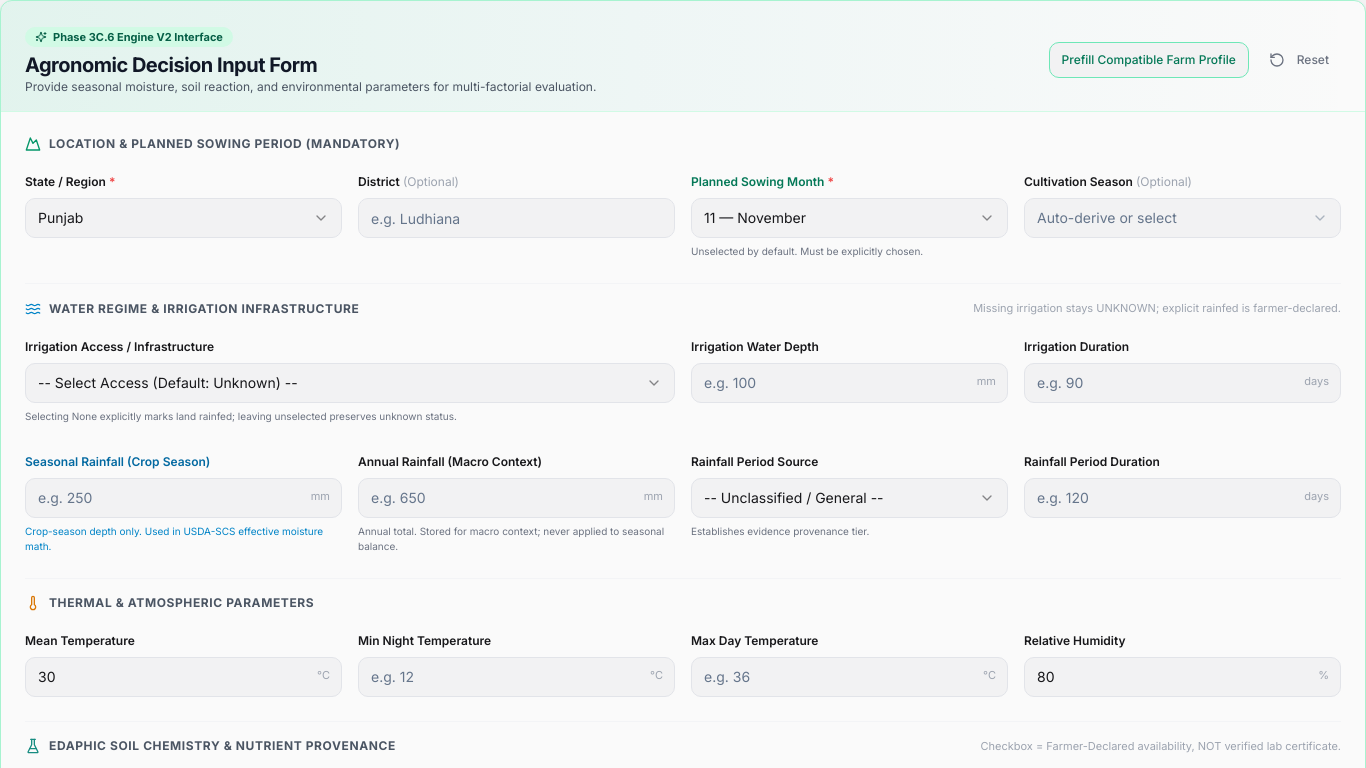
Phase 3C.6.3: Frontend V2 Integration Tests › Phase 3C.6.3.1: V2 Input Defaults & Provenance Closure › 10. reset restores the safe unselected state
This screenshot has width=1366, height=768.
Expected: the text "Punjab" is shown, [38,208,83,228]
Expected: the number field labelled "Mean Temperature" holds "30", [25,657,342,697]
// Click Reset
Click the button "Reset" at (1299, 60), box [1257,42,1341,78]
(page scrolled)
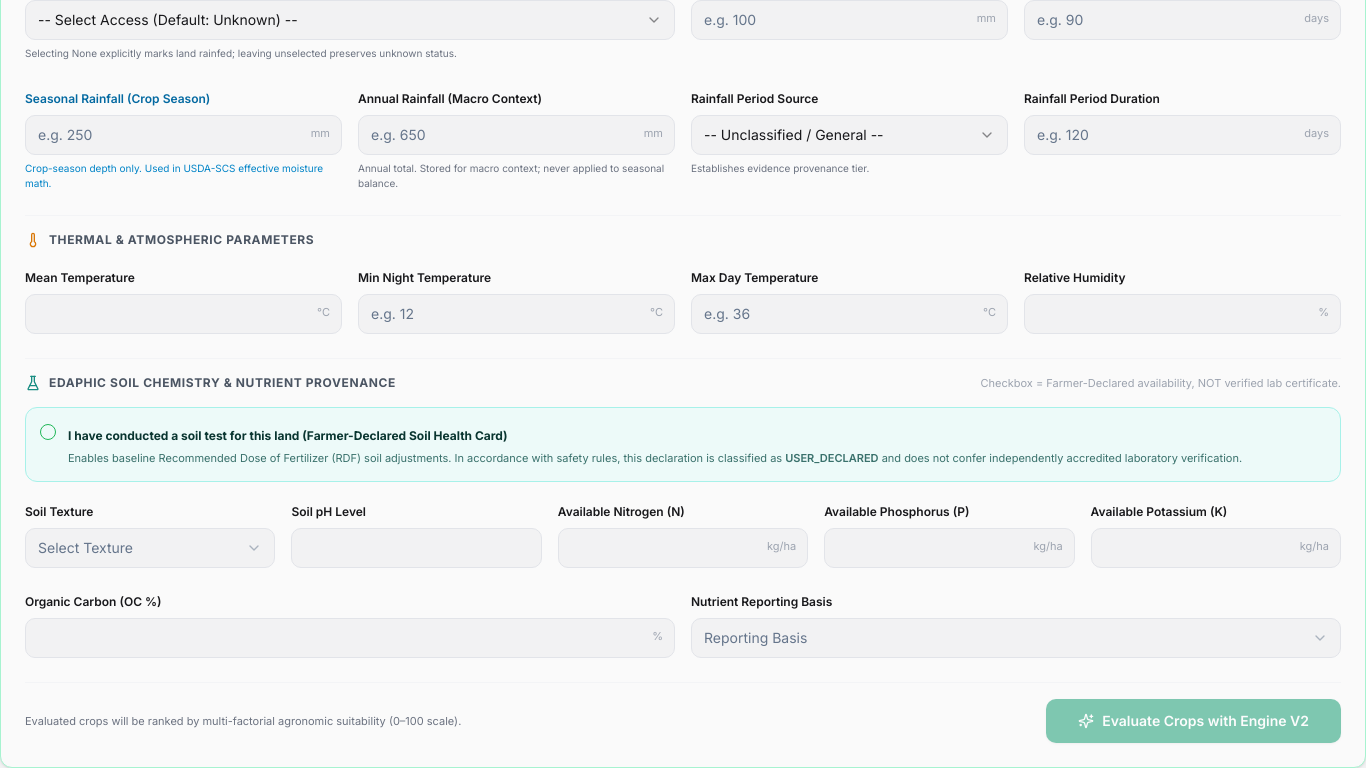
Expected: the number field labelled "Mean Temperature" is empty, [25,294,342,334]
Expected: the number field labelled "Relative Humidity" is empty, [1024,294,1341,334]
Expected: the text "Select Texture" is shown, [38,538,133,558]
